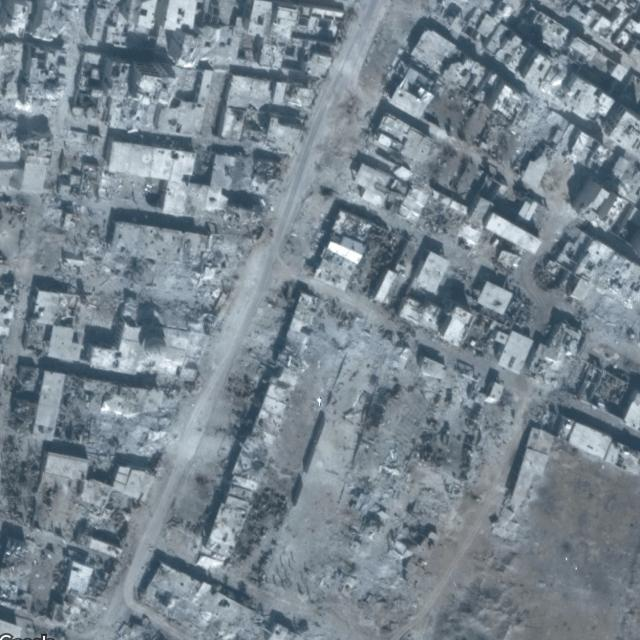damaged_building: (139, 252, 637, 640), (0, 0, 289, 623), (501, 49, 614, 170), (312, 210, 409, 296)
